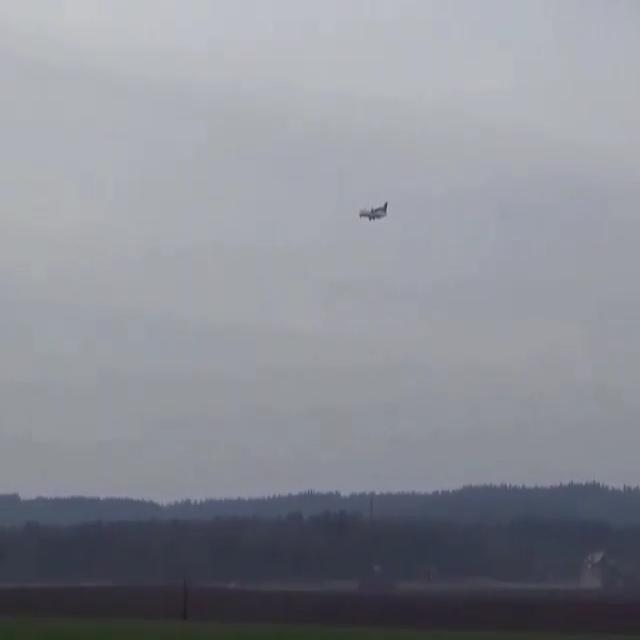AirPlane: (350, 187, 399, 234)
